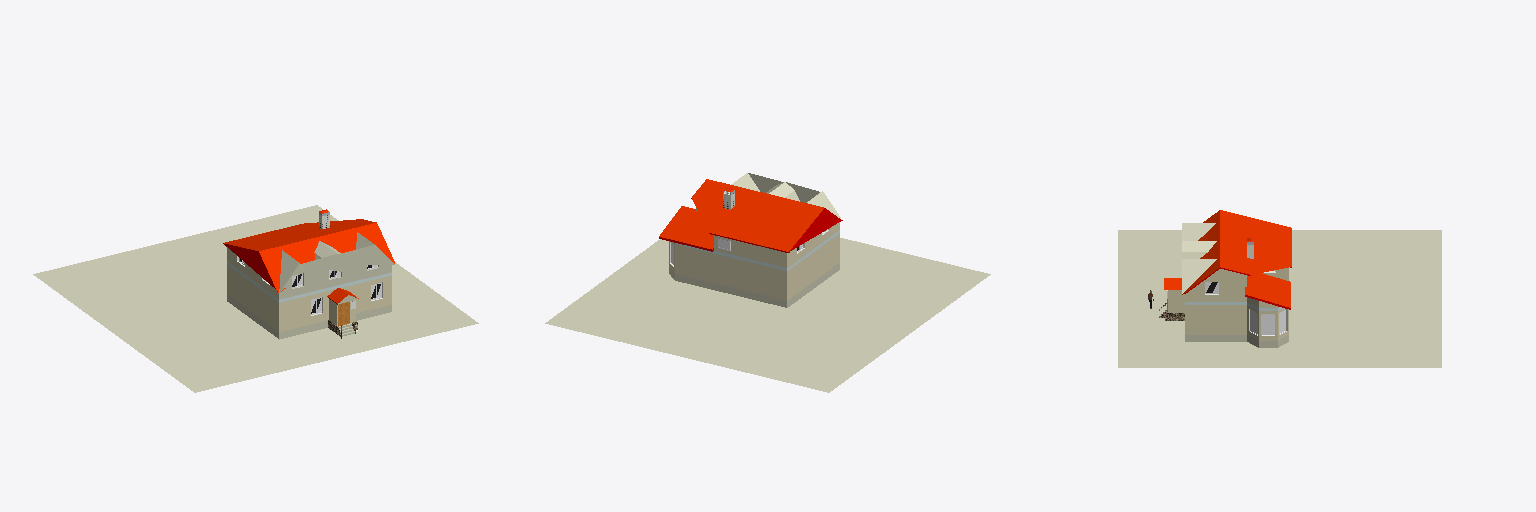
3 renders of one model, left to right at view 1: azimuth 30°, elevation 25°; view 2: azimuth 150°, elevation 25°; view 3: azimuth 270°, elevation 25°, orthographic.
Parts seen in each view (by area): view 1: Mesh26 Model; view 2: Mesh26 Model; view 3: Mesh26 Model.
Part boxes in pixels (x1,y1,x2,y2): Mesh26 Model: (33,205,478,392); Mesh26 Model: (545,173,990,392); Mesh26 Model: (1118,210,1441,367).
Bounding box in the file's own units: 28.41 × 8.2 × 28.02.
21 materials, 3 textured.